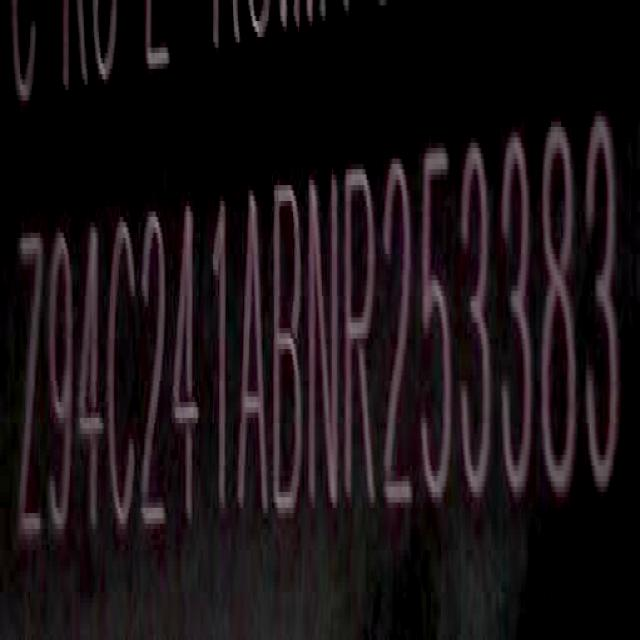1: (210, 195, 232, 538)
2: (384, 152, 418, 520), (138, 208, 167, 552)
3: (589, 109, 623, 502), (501, 132, 536, 508), (458, 138, 492, 514)
4: (176, 199, 206, 545), (80, 218, 108, 552)
5: (420, 141, 452, 511)
8: (540, 120, 576, 507)
9: (49, 226, 76, 558)
A: (239, 183, 271, 534)
B: (277, 174, 307, 530)
C: (111, 216, 139, 549)
N: (308, 165, 341, 522)
R: (344, 163, 380, 519)
Z: (18, 224, 46, 565)
